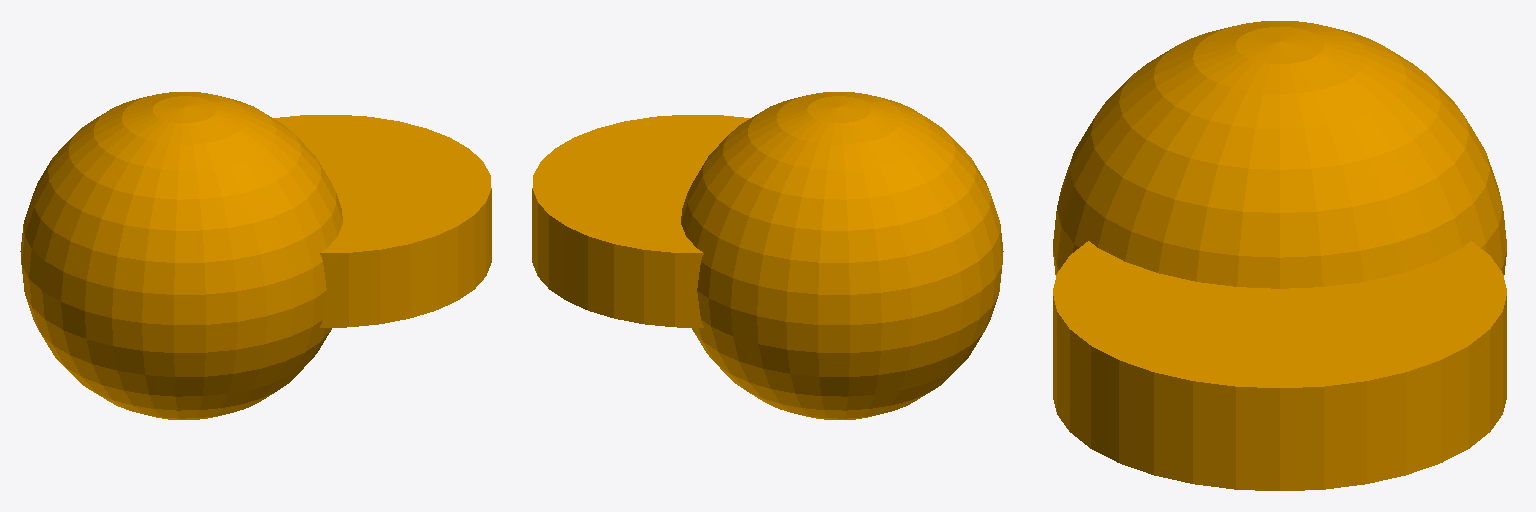
URDF robot description (visual_example):
<?xml version='1.0' encoding='UTF-8'?>
<!--URDF-->
<robot name='visual_example'>
  <link name='base_link'>
    <inertial>
      <mass value='0.12' />
      <inertia ixx='0.01' ixy='0' ixz='0' iyy='0.01' iyz='0' izz='0.01' />
    </inertial>
    <visual>
      <geometry>
        <sphere radius="2"/>
      </geometry>
    </visual>
    <visual>
      <origin xyz="2 0 0" rpy="0 0 0"/>
      <geometry>
        <cylinder length="1" radius="2"/>
      </geometry>
    </visual>
  </link>
  <gazebo reference='base_link'>
    <visual>
      <transparency>0.25</transparency>
    </visual>
  </gazebo>
</robot>

--- What the picture shows (computed from the rendered views, not written in the file) ---
3 views of the same robot in one strip: view 1: azimuth 30°, elevation 25°; view 2: azimuth 150°, elevation 25°; view 3: azimuth 270°, elevation 25° (orthographic).
Model visual_example with 1 links and 0 joints (none), rooted at base_link, posed every joint at zero.
Links seen in each view (by area): view 1: base_link; view 2: base_link; view 3: base_link.
Link boxes in pixels (x1=…): base_link: x1=20, y1=92, x2=491, y2=419; base_link: x1=532, y1=92, x2=1003, y2=419; base_link: x1=1053, y1=21, x2=1506, y2=490.
Size in the robot's own frame: 6 by 4 by 4 metres.
Geometry: primitives only (box / cylinder / sphere), no mesh files.
